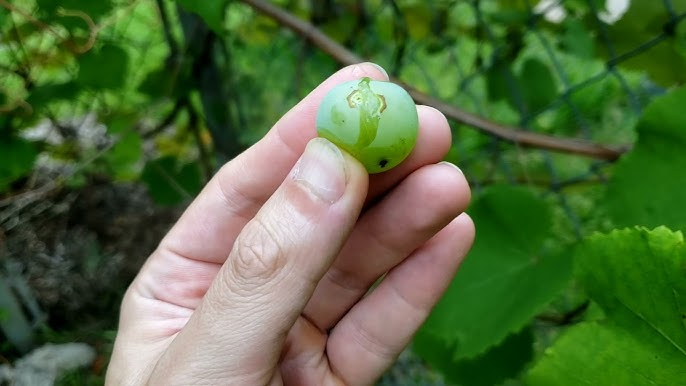grapes: (320, 75, 426, 188)
